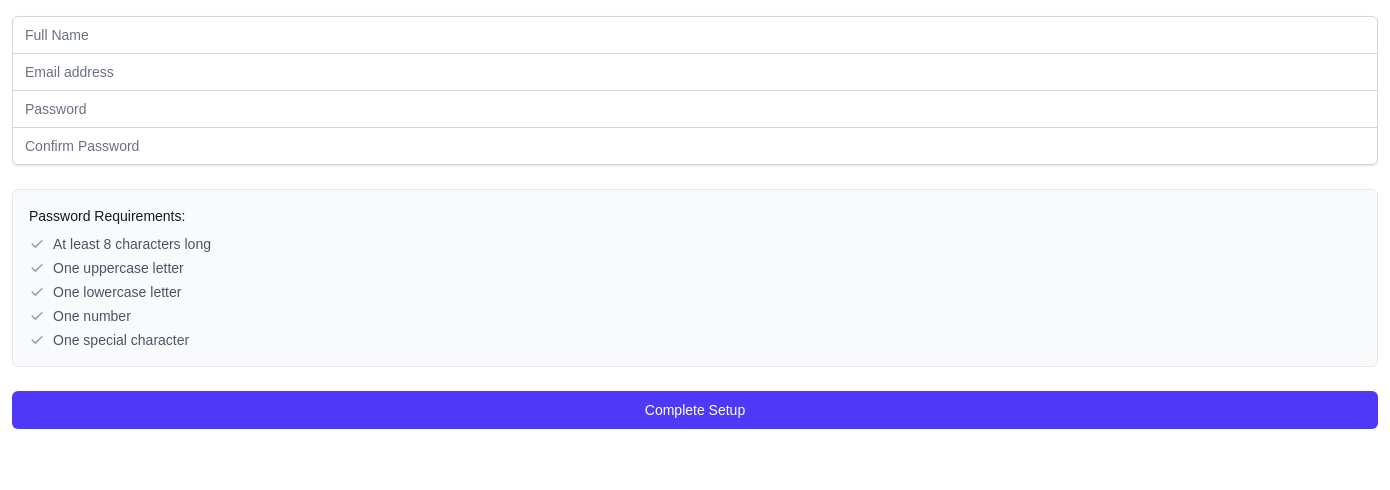
SetupForm › should validate email format
Type "Test User" into the field with test id "name-input" at (695, 35), box [12,16,1378,54]
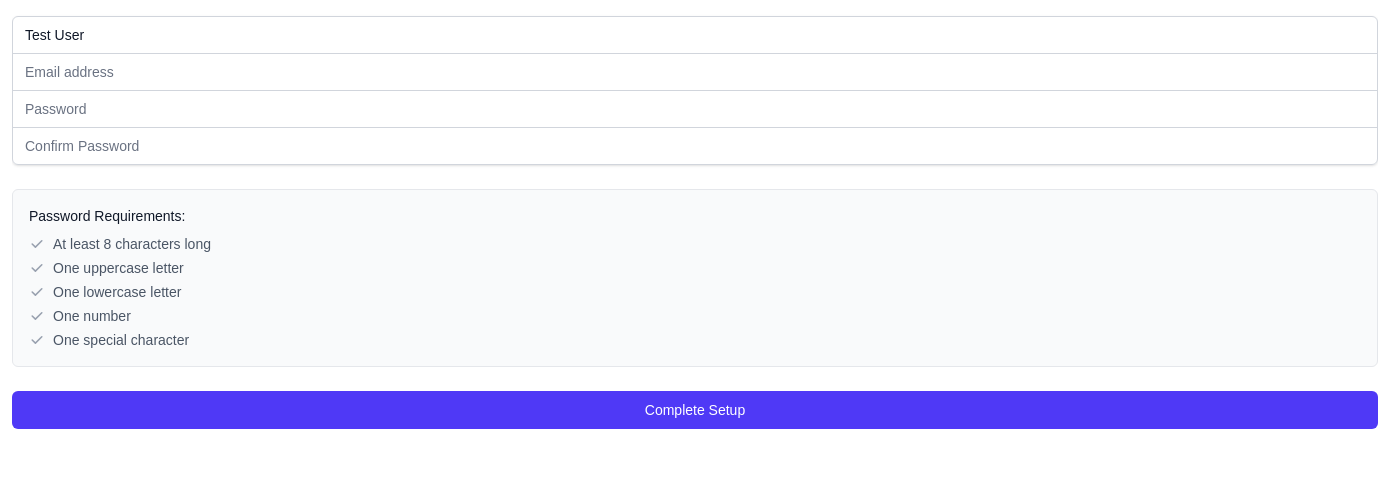
Type "invalid-email" into the field with test id "email-input" at (695, 72), box [12,53,1378,91]
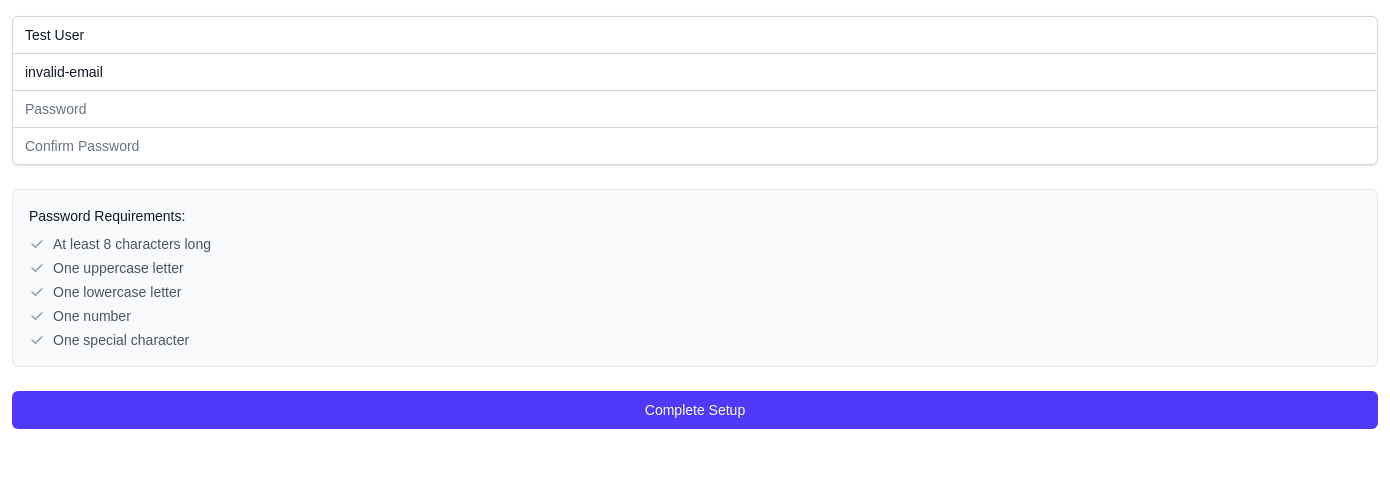
Type "StrongPass1!" into the password field with test id "password-input" at (695, 109), box [12,90,1378,128]
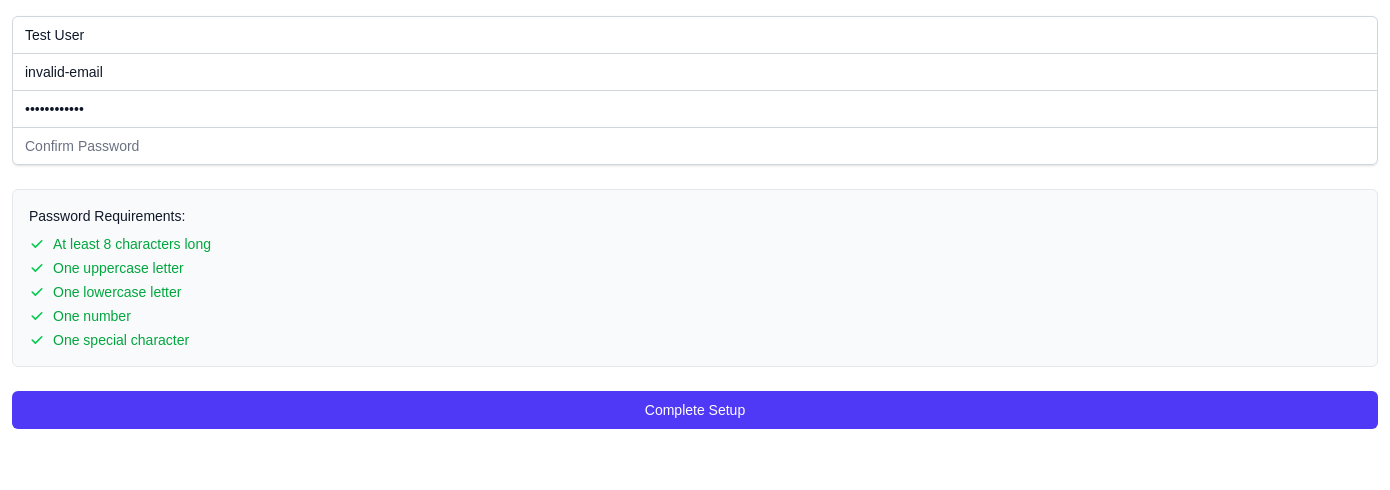
Type "StrongPass1!" into the password field with test id "confirm-password-input" at (695, 146), box [12,127,1378,165]
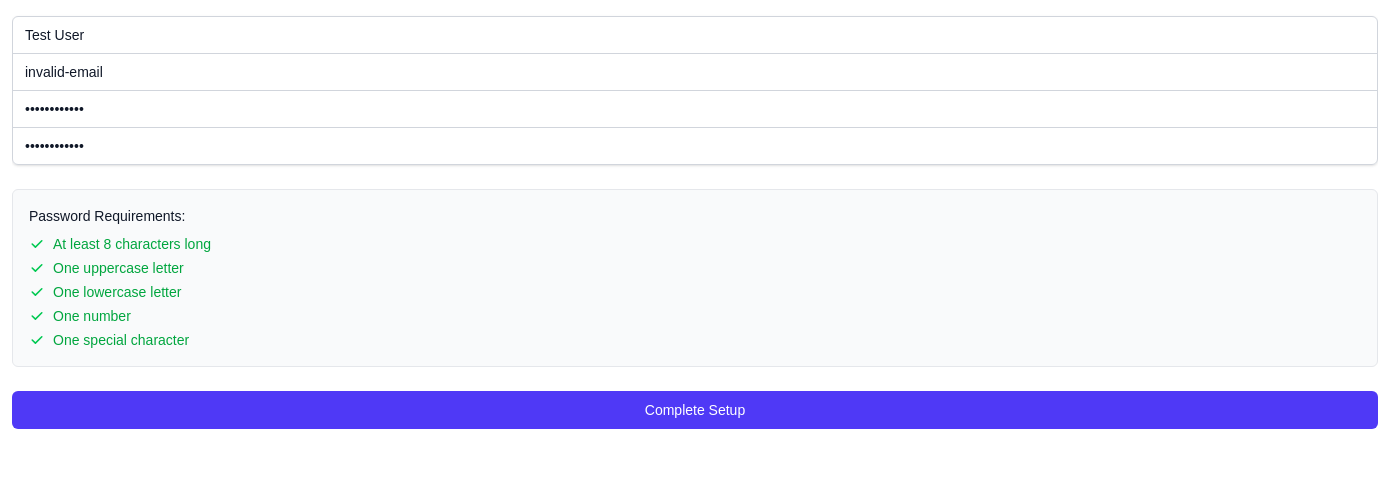
Submit the form
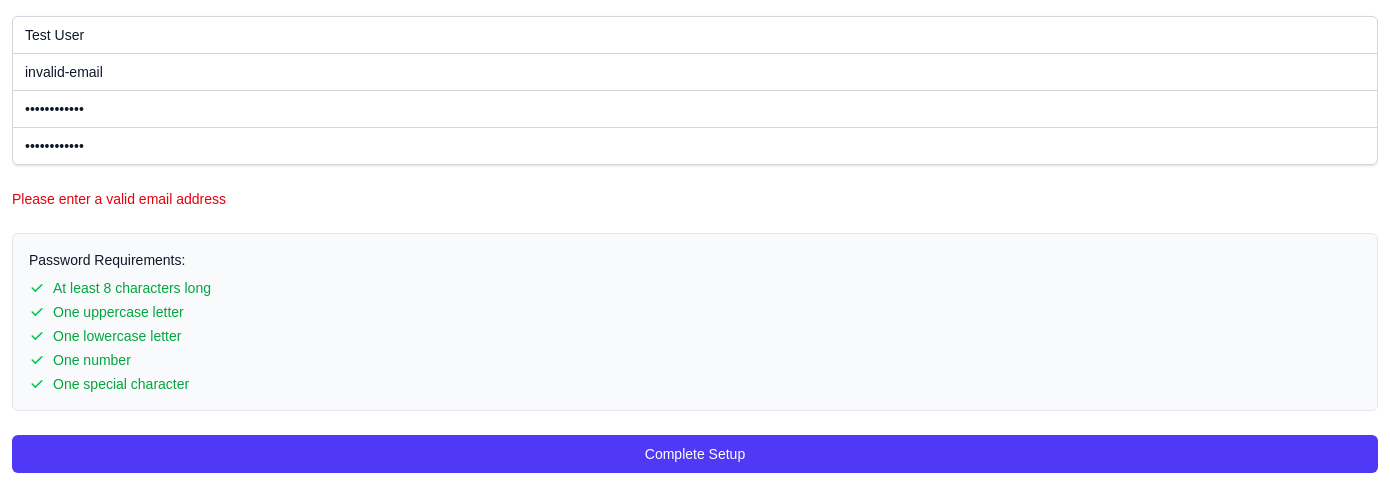
Expected: the text "Please enter a valid email address" is shown, [12,191,226,207]
